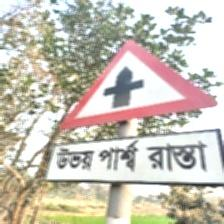Crossroad: (47, 38, 223, 185)
